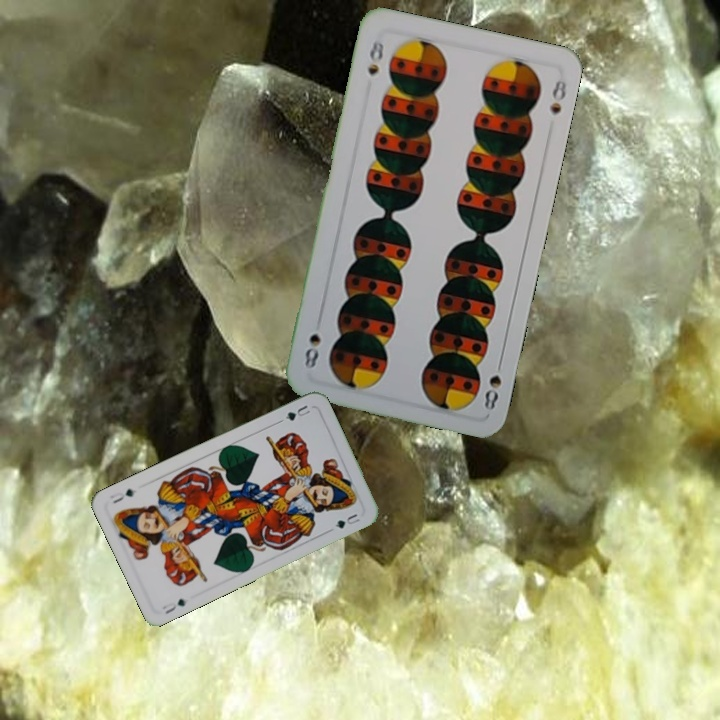GU: (276, 401, 313, 425), (158, 594, 189, 617)
S8: (480, 355, 505, 412), (363, 34, 387, 78)
